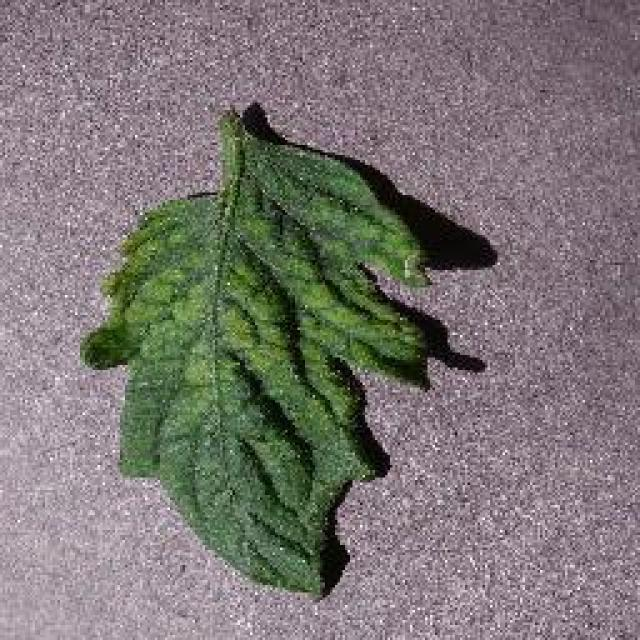Tomato___Tomato_mosaic_virus: (80, 110, 425, 592)
